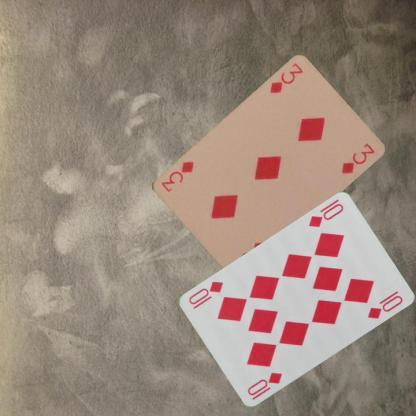10d: (244, 370, 284, 402), (306, 201, 346, 230)
3d: (266, 61, 304, 96)
